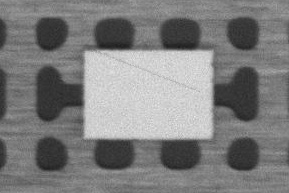DIE_CRACK: (139, 33, 289, 61)
